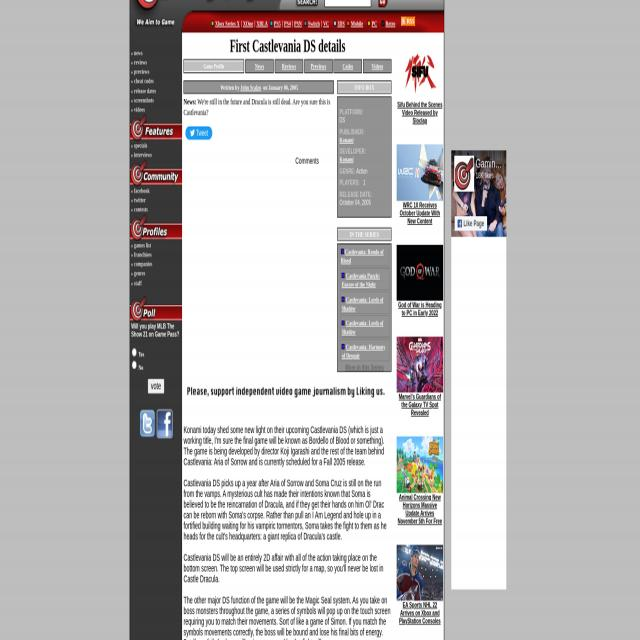button: (451, 151, 506, 237), (184, 382, 390, 399), (397, 145, 443, 201), (397, 244, 443, 300), (397, 437, 443, 493), (397, 544, 443, 600), (397, 44, 443, 100), (397, 337, 443, 392), (130, 115, 182, 141), (130, 160, 182, 186), (130, 214, 182, 240), (130, 296, 182, 322), (130, 11, 182, 33), (340, 245, 390, 267), (340, 291, 390, 313), (340, 339, 389, 361), (340, 316, 390, 337), (341, 268, 389, 288), (184, 60, 244, 73), (454, 216, 487, 232), (139, 409, 155, 438), (156, 409, 172, 438), (363, 59, 391, 74), (334, 59, 362, 73), (185, 126, 212, 140), (275, 60, 303, 73), (245, 60, 273, 73), (305, 60, 332, 73), (148, 378, 164, 394), (401, 16, 415, 26), (378, 0, 388, 7)
field: (325, 0, 371, 7), (132, 348, 137, 358), (132, 360, 137, 370)
